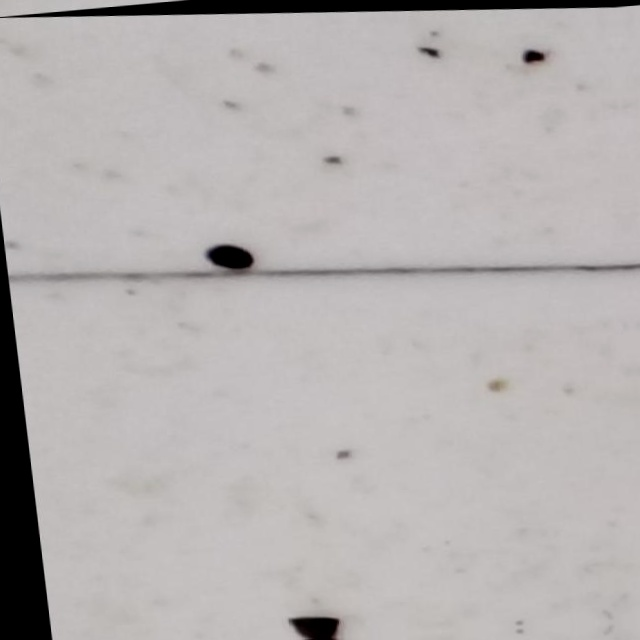varroa: (201, 241, 252, 275)
